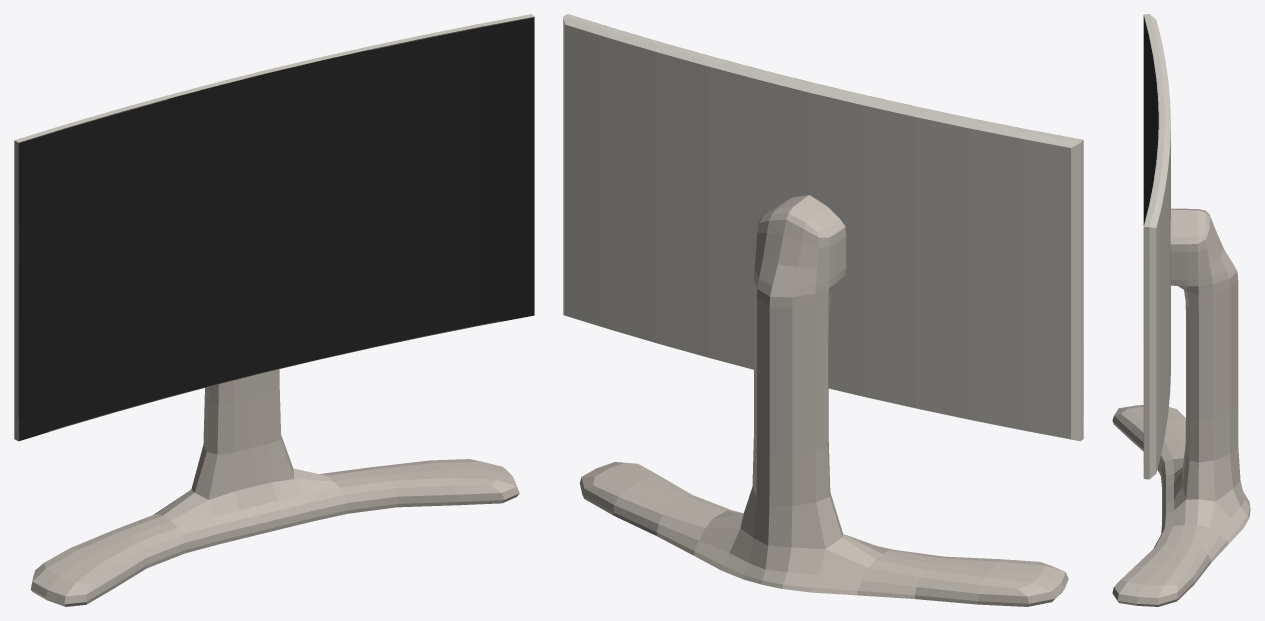
The model's file is Screen4.fbx.
3 renders of one model, left to right at view 1: azimuth 30°, elevation 25°; view 2: azimuth 150°, elevation 25°; view 3: azimuth 270°, elevation 25°, orthographic. The views are drawn at different scales.
Parts seen in each view (by area): view 1: Screen4Baked; view 2: Screen4Baked; view 3: Screen4Baked.
Boxes of the visible parts, x1,y1,x2,y2 form: Screen4Baked: (14,14,534,606); Screen4Baked: (563,14,1083,606); Screen4Baked: (1112,14,1250,606).
Bounding box in the file's own units: 211 × 180 × 57.68.
